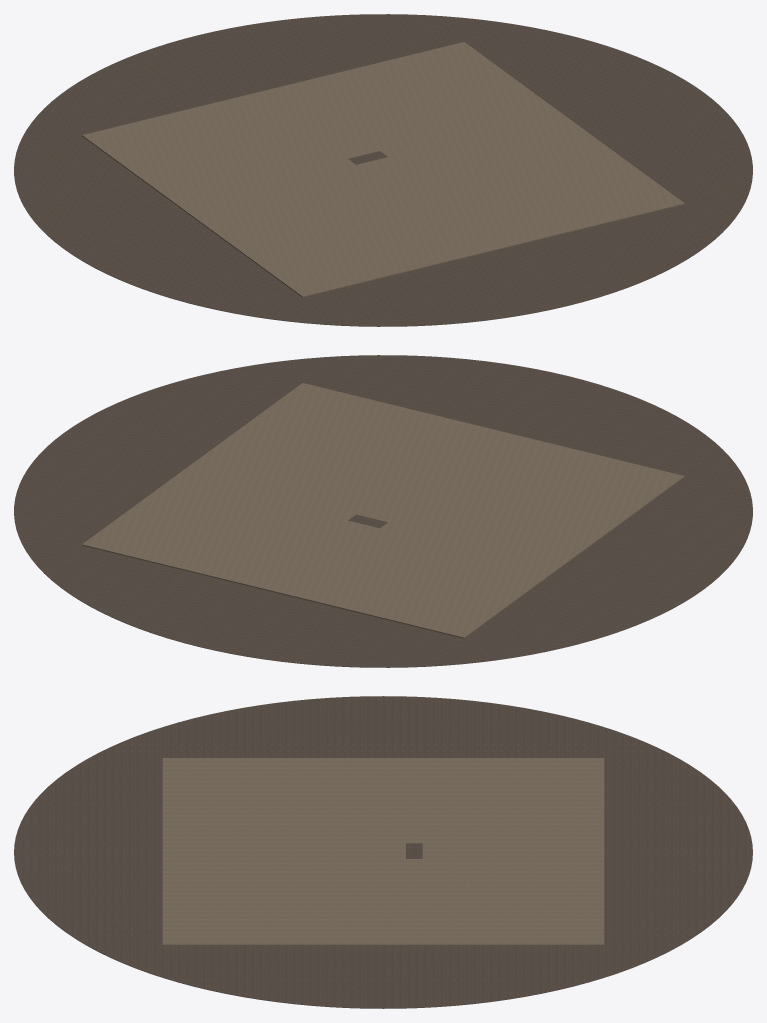
Rendered from city-e.glb.
The picture shows the model from 3 angles, top to bottom: view 1: azimuth 30°, elevation 25°; view 2: azimuth 150°, elevation 25°; view 3: azimuth 270°, elevation 25°; orthographic projection.
Visible parts, largest first — view 1: city-e; view 2: city-e; view 3: city-e.
Part boxes in pixels (x1,y1,x2,y2): city-e: [14, 14, 752, 326]; city-e: [14, 355, 752, 667]; city-e: [14, 696, 752, 1008].
Size of the model in its own units: 720 by 1.64 by 720.
2 materials, 2 textured.
